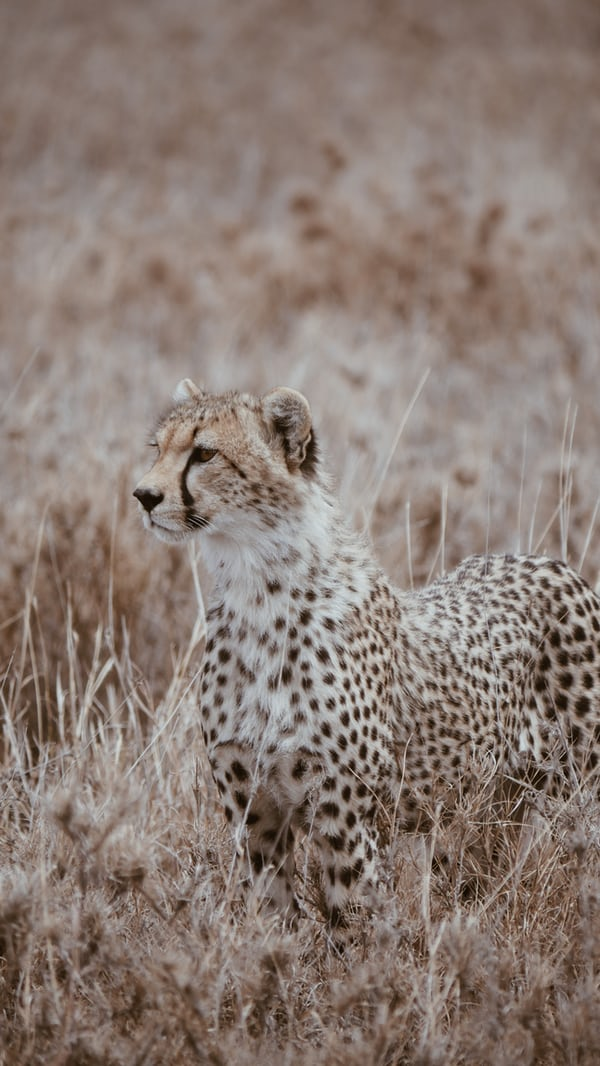cheetah: (108, 350, 353, 570)
